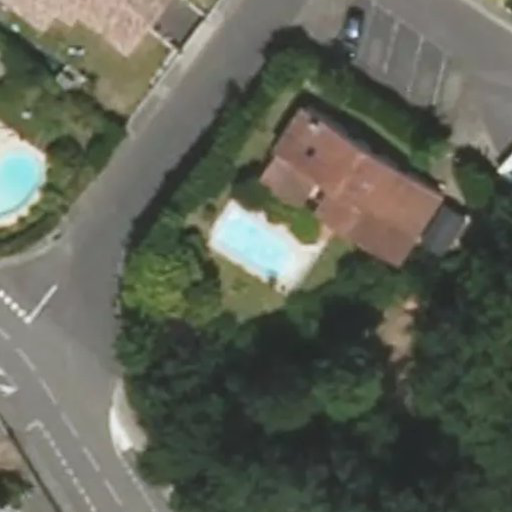pool: (213, 238, 305, 253)
